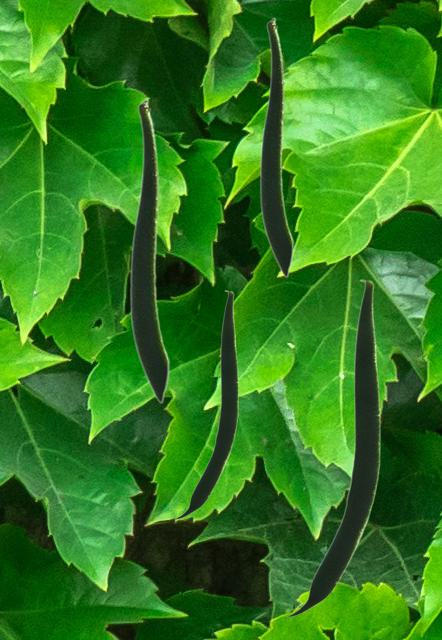french_bean: (286, 279, 379, 616), (174, 290, 237, 518), (129, 98, 169, 403), (259, 17, 293, 277)
